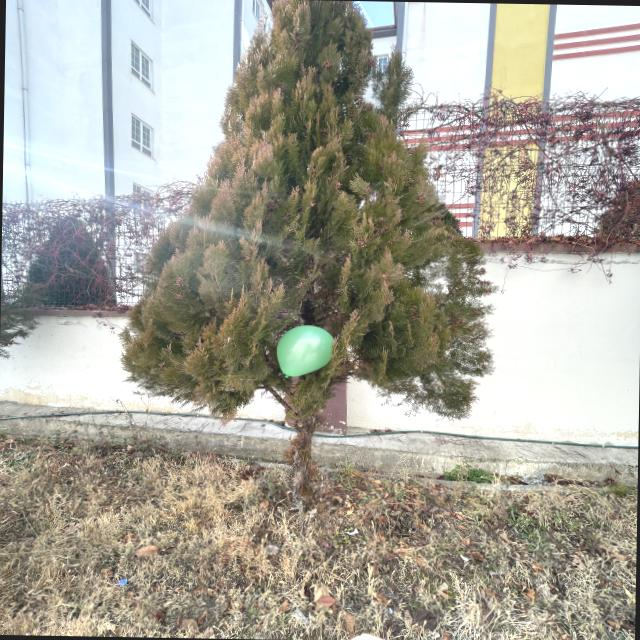balloon: (276, 325, 334, 376)
